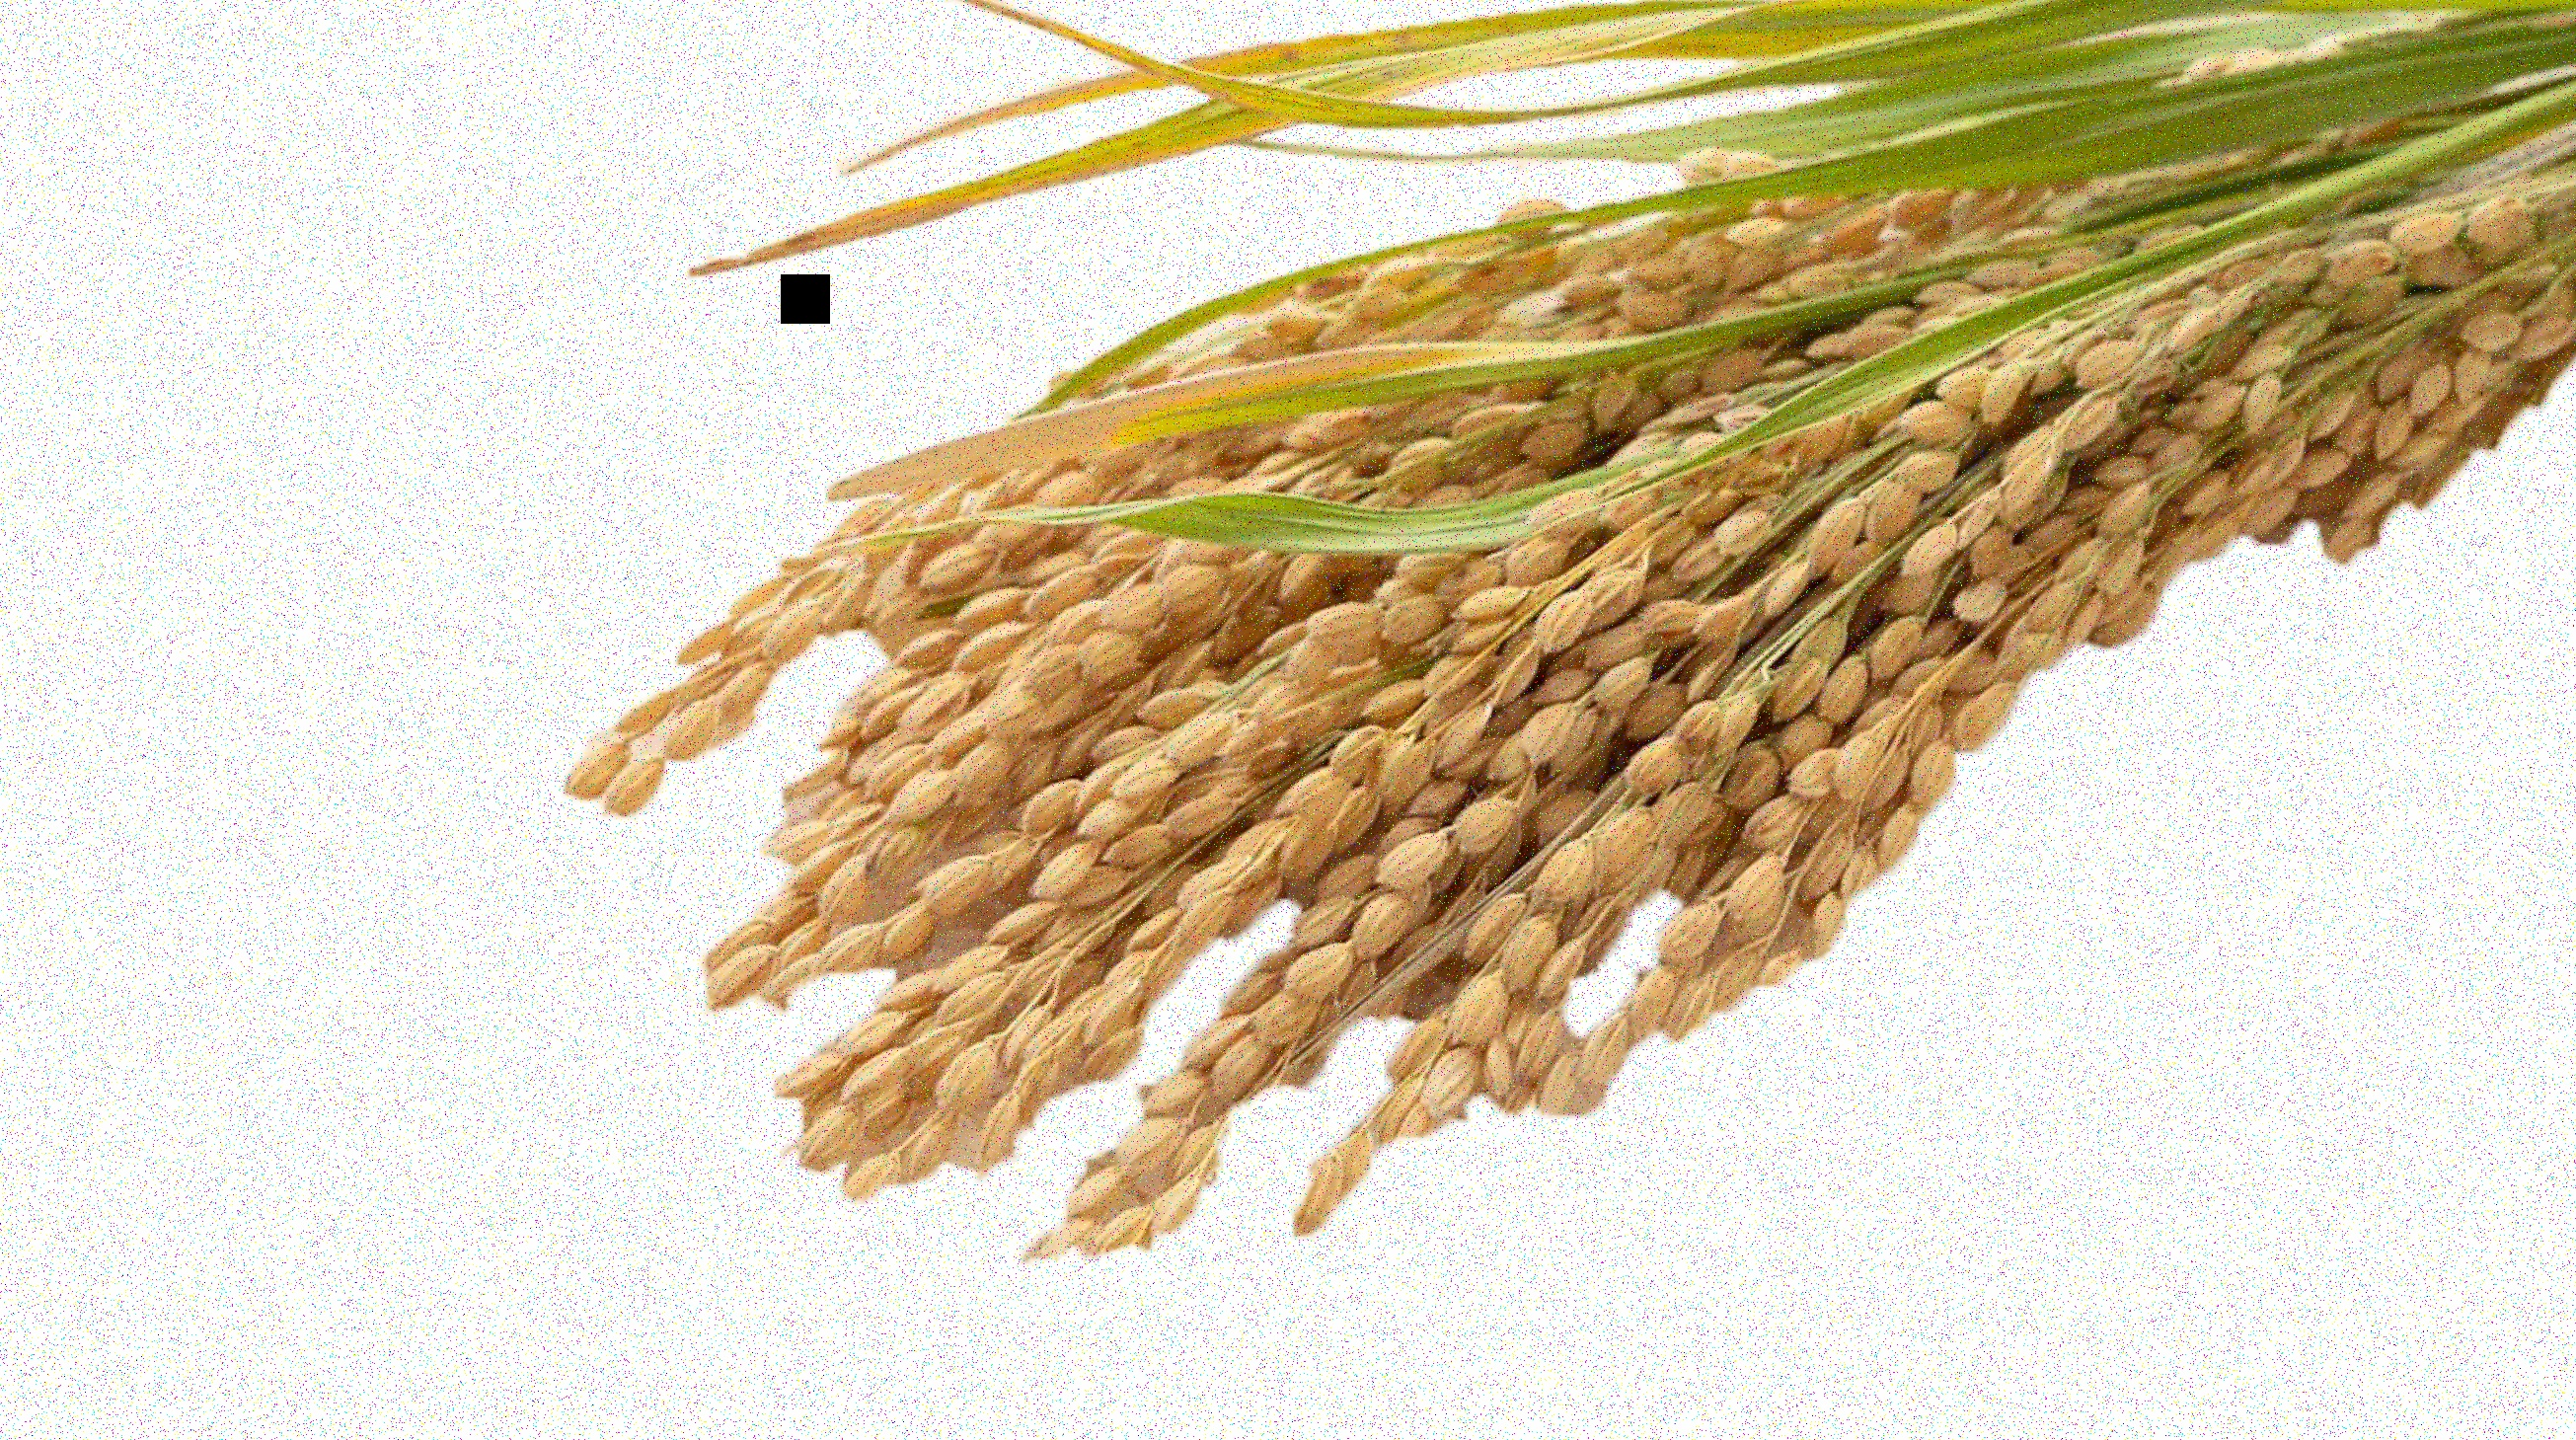rice: (510, 41, 2574, 1290)
